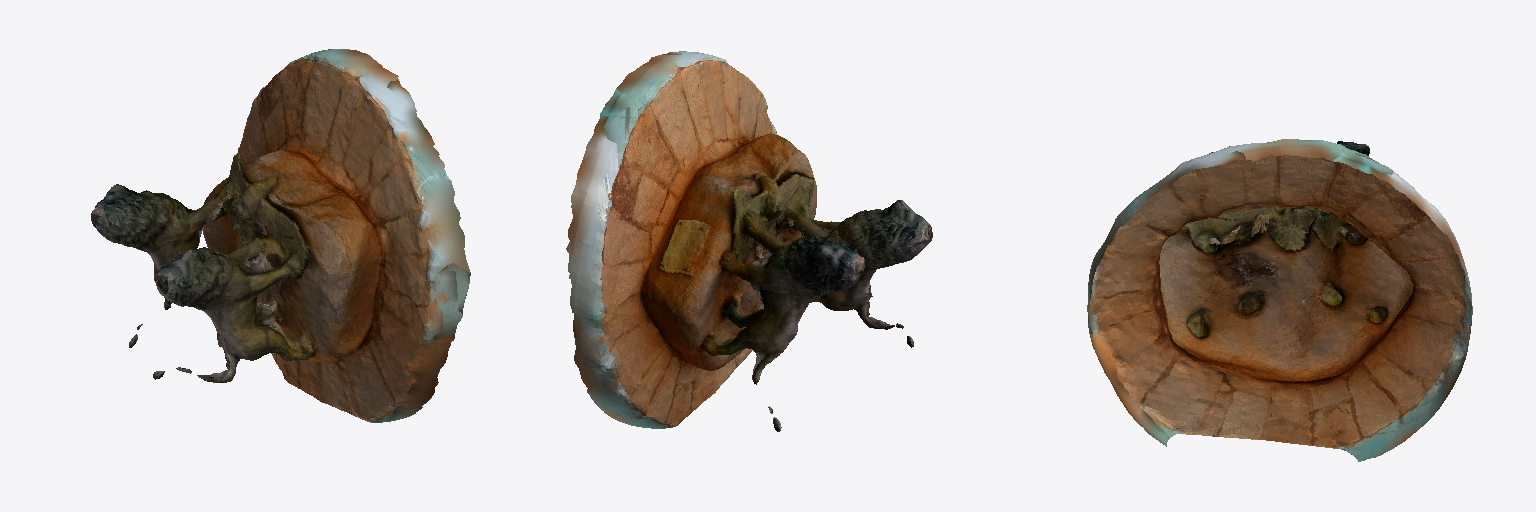
3 views of the same model, side by side, from view 1: azimuth 30°, elevation 25°; view 2: azimuth 150°, elevation 25°; view 3: azimuth 270°, elevation 25° (orthographic).
Bounding box in the file's own units: 21.94 × 26.45 × 28.15.
1 materials, 1 textured.